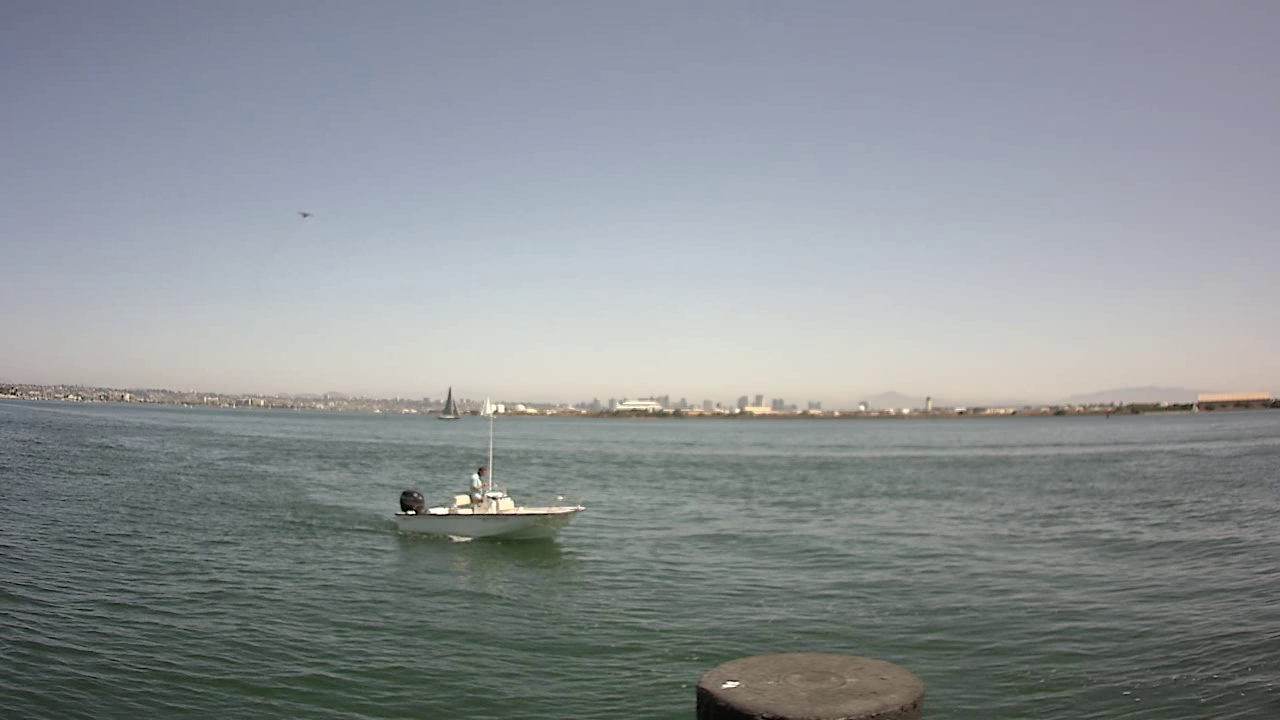target: (388, 463, 590, 550)
